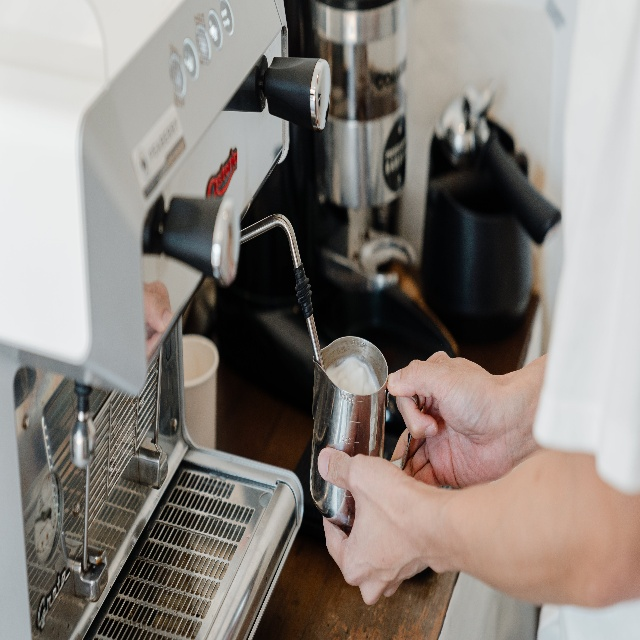Sin_guantes: (317, 445, 439, 607), (385, 350, 509, 484)
